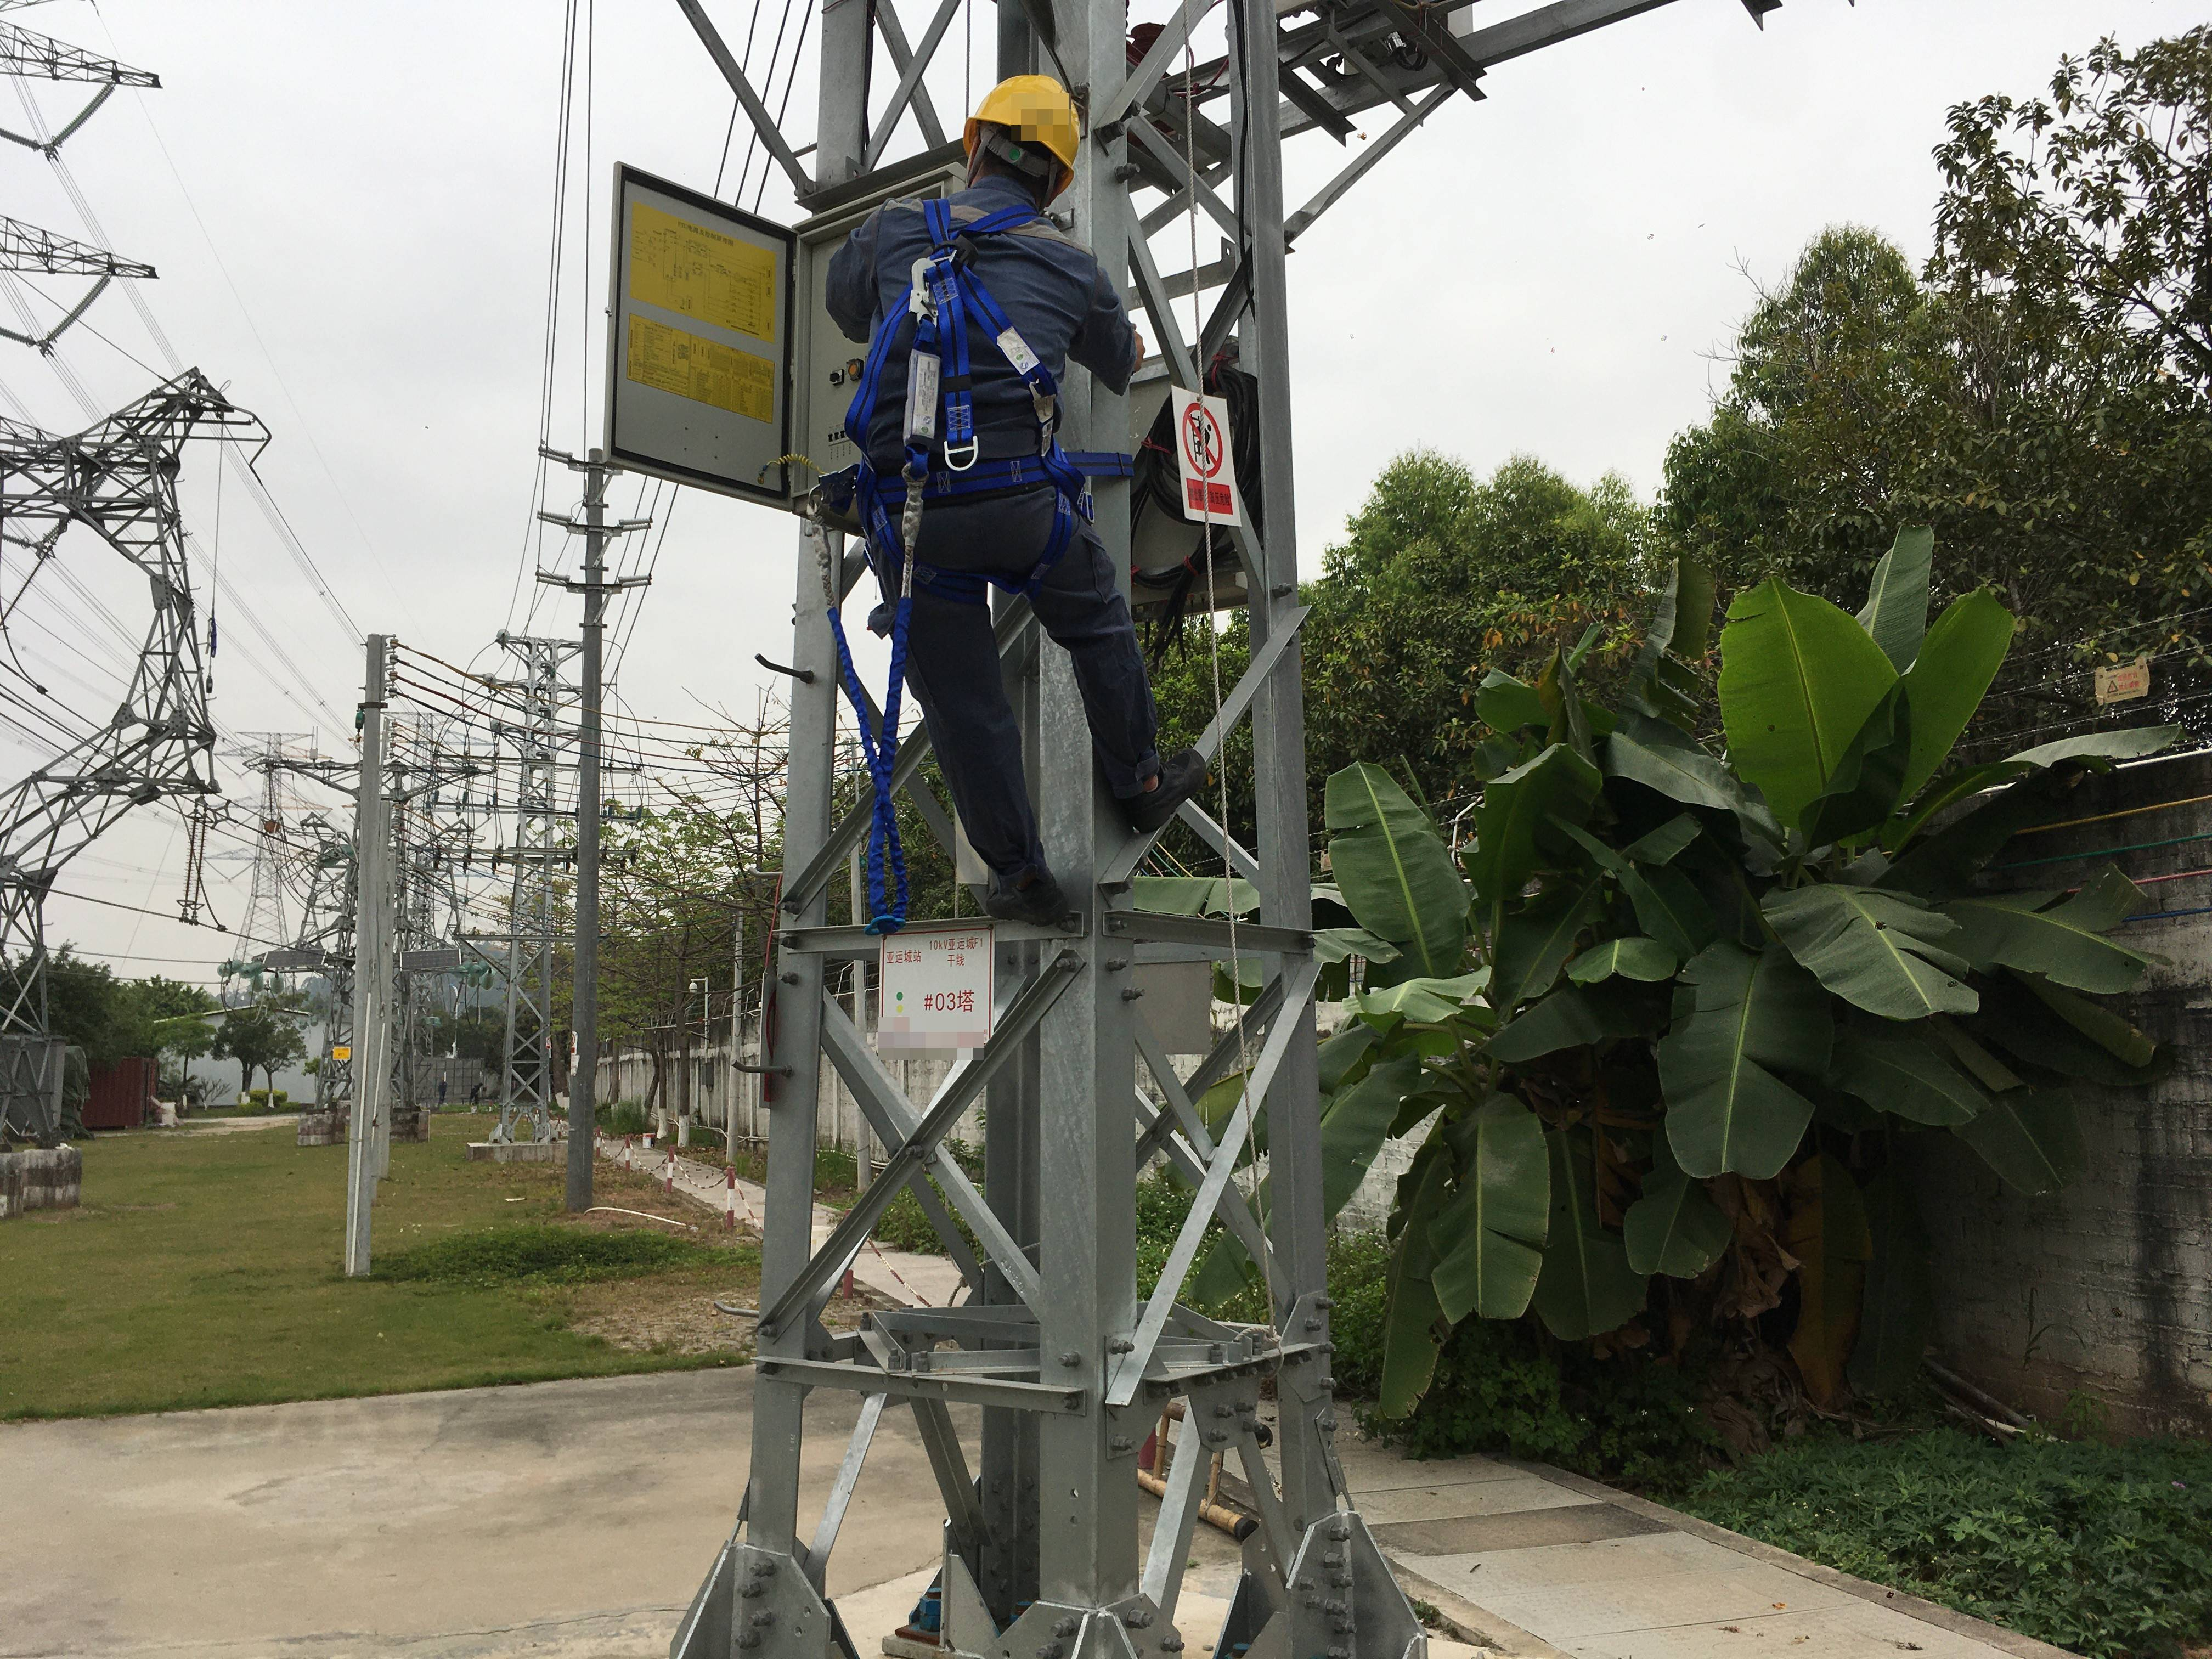downsuit: (855, 460, 1181, 864)
upsuit: (820, 169, 1141, 502)
